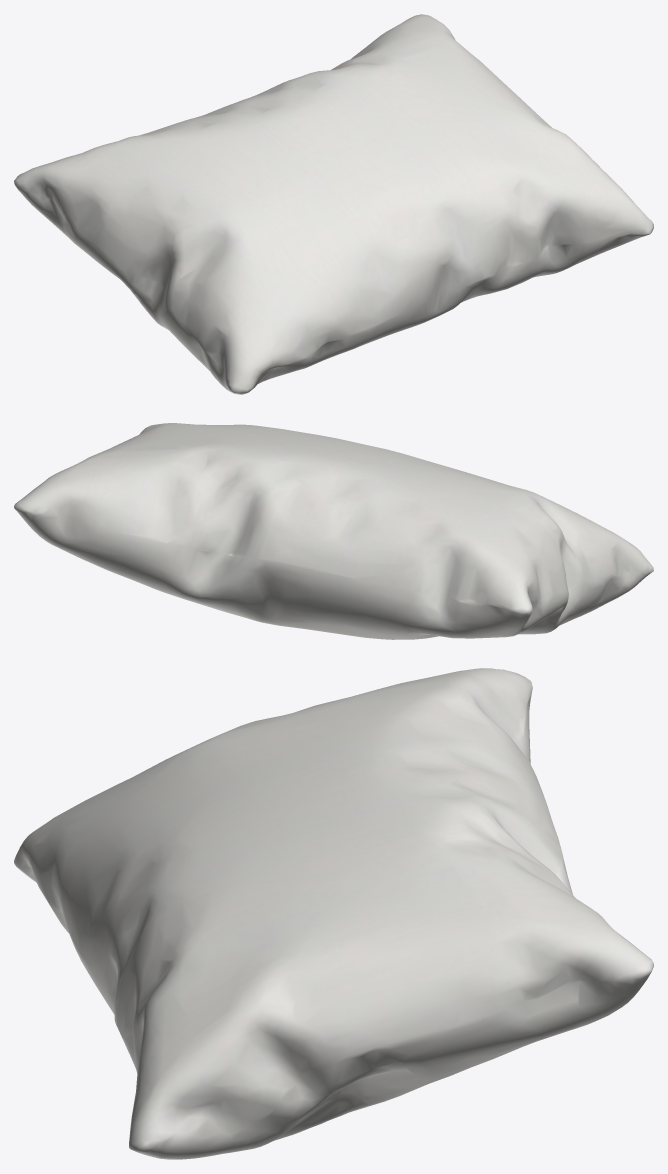
The model's file is Pillow05.glb.
The picture shows the model from 3 angles, top to bottom: view 1: azimuth 30°, elevation 25°; view 2: azimuth 150°, elevation 25°; view 3: azimuth 270°, elevation 25°; orthographic projection. The views are drawn at different scales.
Visible parts, largest first — view 1: BP_Pillow05; view 2: BP_Pillow05; view 3: BP_Pillow05.
Boxes of the visible parts, box(x1,y1,x2,y2) form: BP_Pillow05: box(14, 14, 653, 394); BP_Pillow05: box(14, 423, 653, 639); BP_Pillow05: box(14, 668, 653, 1159).
Bounding box in the file's own units: 0.5075 × 0.1633 × 0.3769.
1 material, 1 textured.
